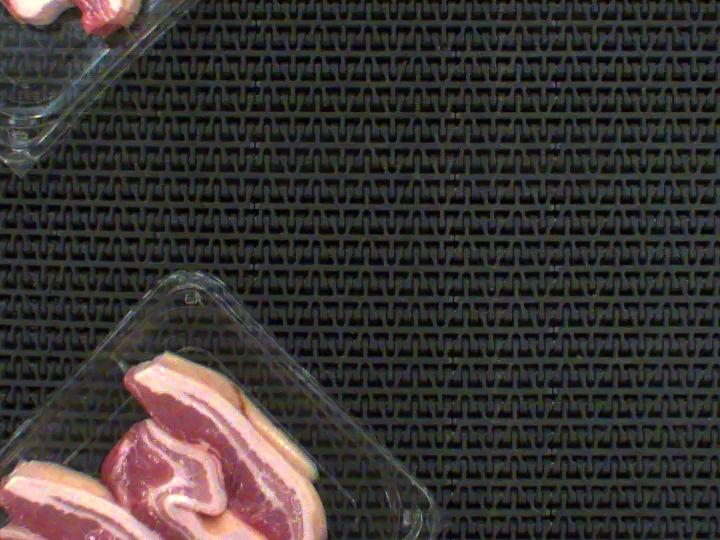packaging-error: (99, 347, 142, 378)
